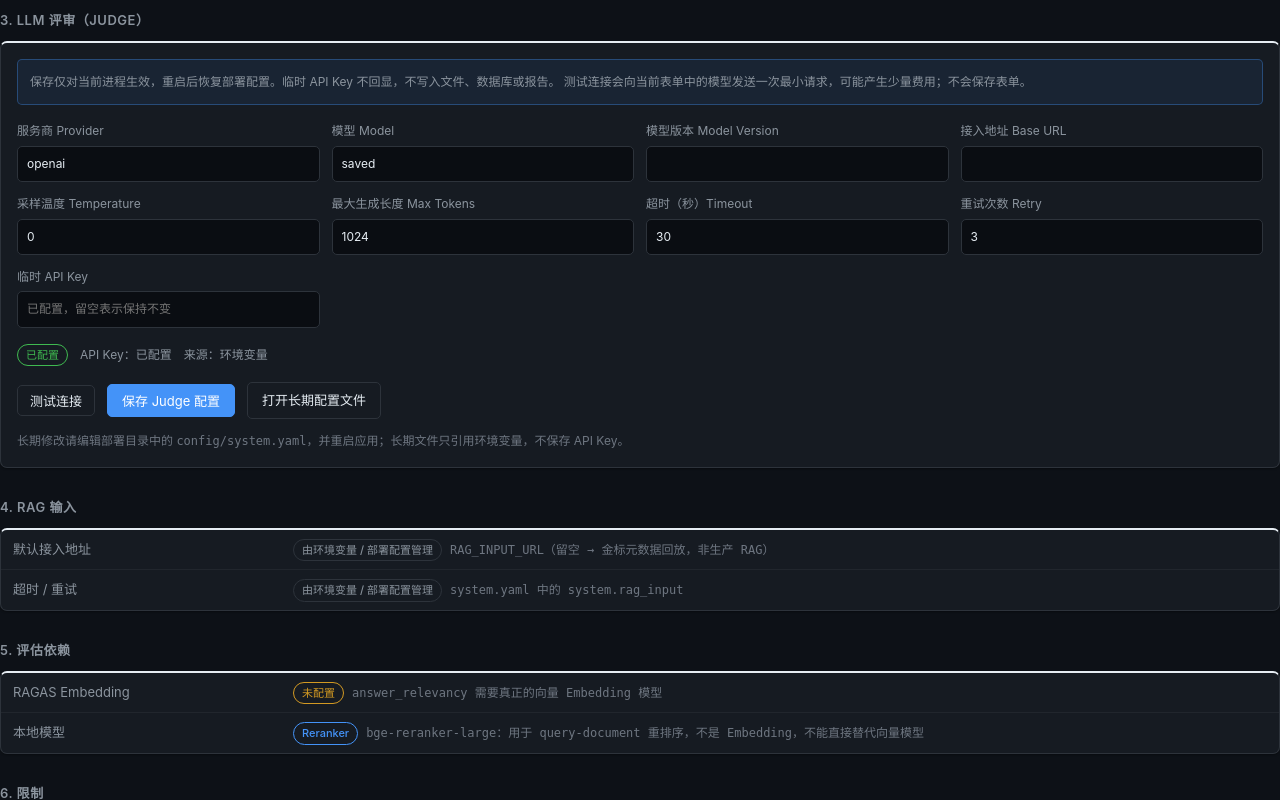
连接成功显示真实耗时，修改草稿会清除过期的成功提示
(page scrolled)
Click the button "测试连接": (56, 400) [17, 385, 95, 416]
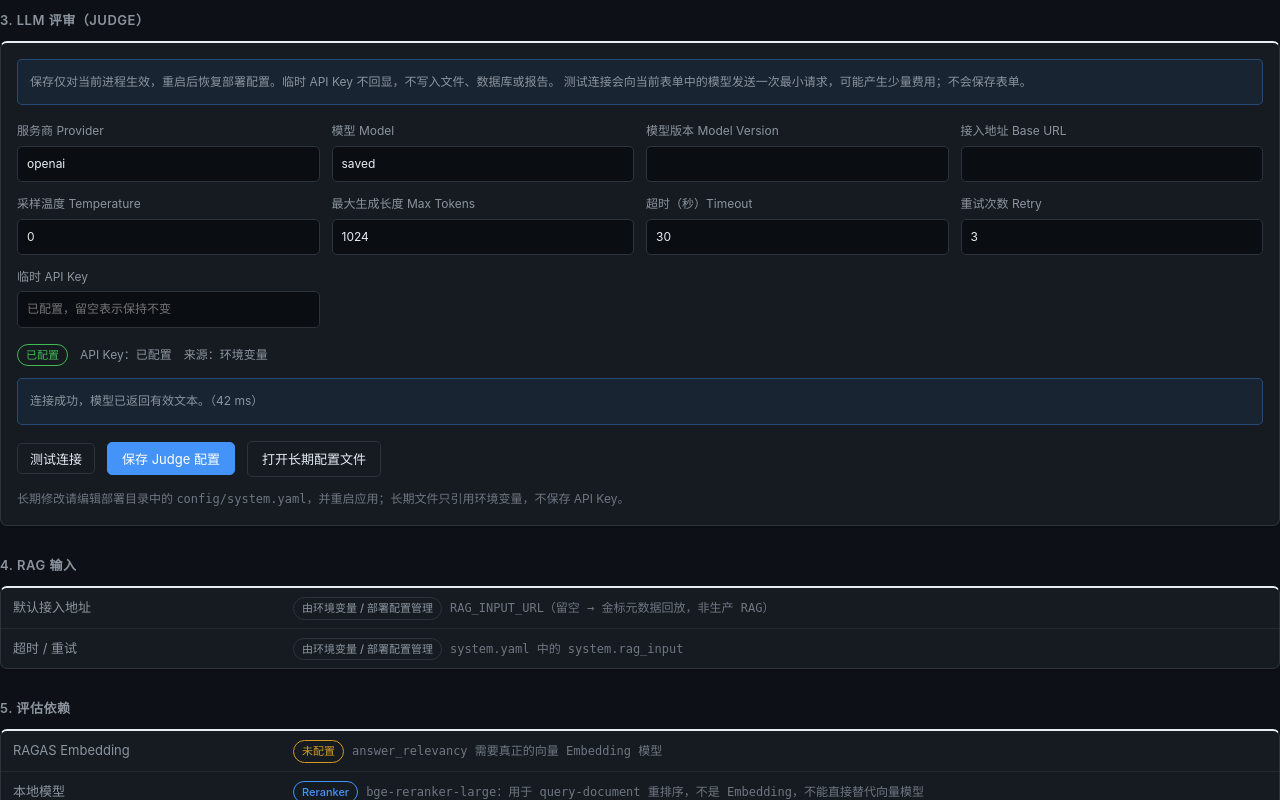
Expected: the text "连接成功，模型已返回有效文本。（42 ms）" is shown, [17, 378, 1263, 425]
Replace the text in the field labelled "模型 Model" with "changed": (483, 164) [332, 146, 634, 182]
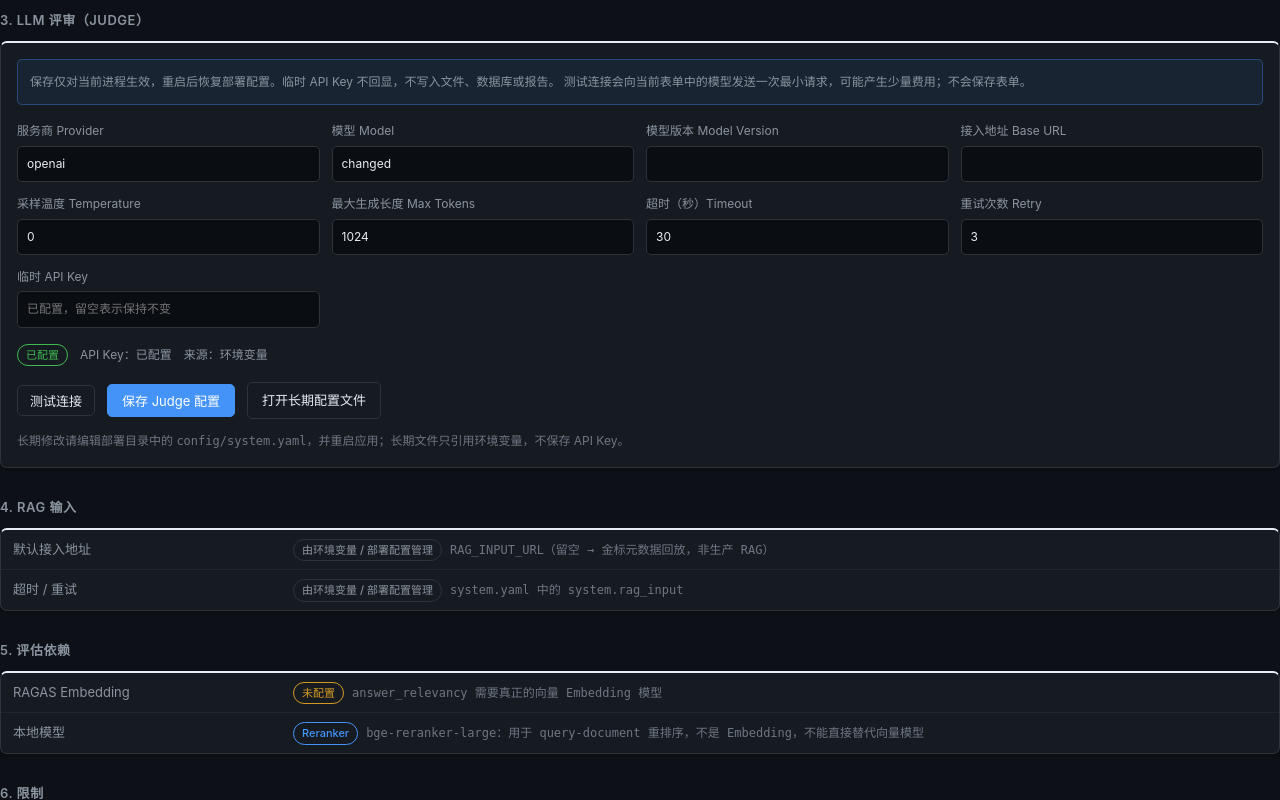
Expected: the text "连接成功" is gone
